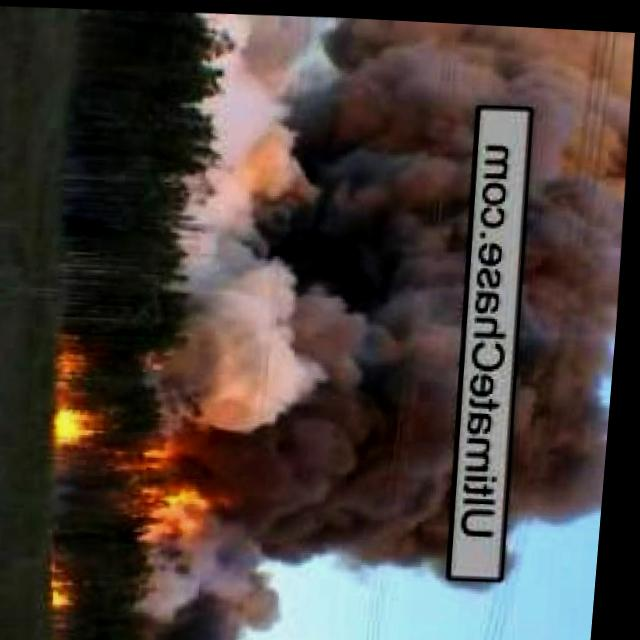Fire: (155, 480, 251, 538), (61, 402, 123, 455), (59, 343, 90, 379), (62, 580, 81, 611)
Smoke: (184, 9, 494, 582), (504, 22, 640, 528)
